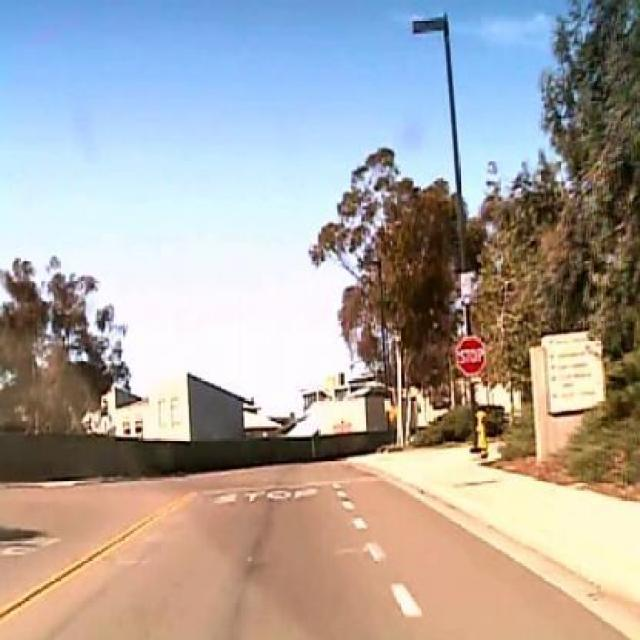Stop: (455, 335, 488, 377)
